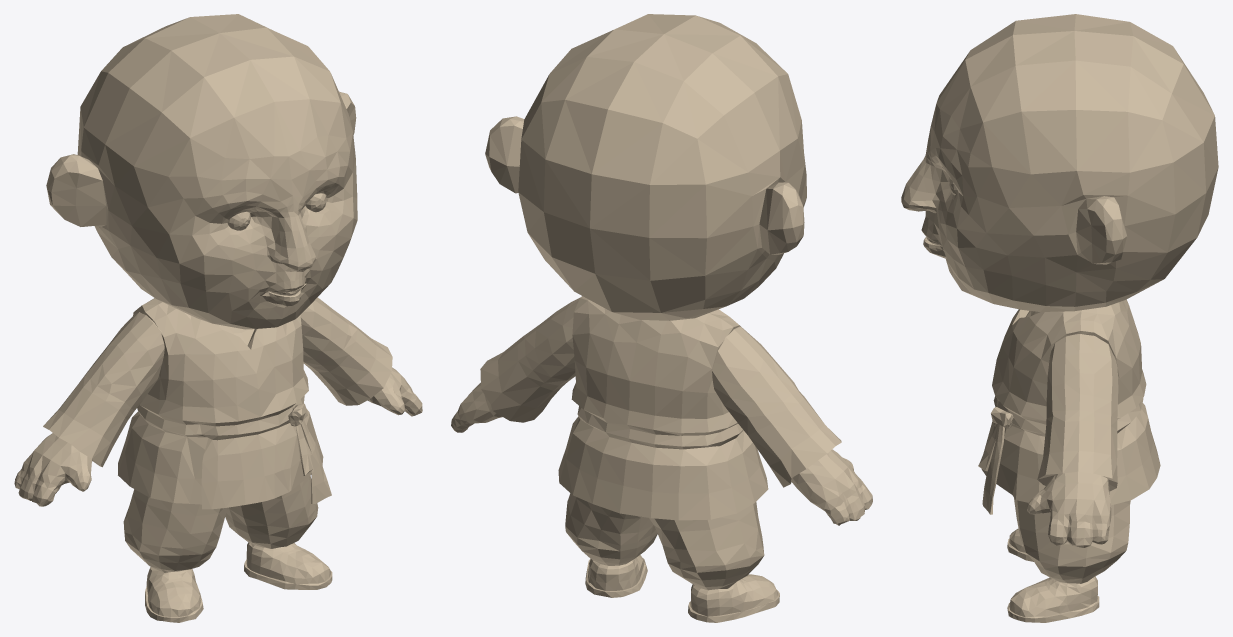
The model's file is character-web.glb.
3 renders of one model, left to right at view 1: azimuth 30°, elevation 25°; view 2: azimuth 150°, elevation 25°; view 3: azimuth 270°, elevation 25°, orthographic. The views are drawn at different scales.
Parts seen in each view (by area): view 1: HistoryMascot_review_pending; view 2: HistoryMascot_review_pending; view 3: HistoryMascot_review_pending.
Part boxes in pixels (<box>): HistoryMascot_review_pending: <box>14,14,422,622</box>; HistoryMascot_review_pending: <box>451,14,872,622</box>; HistoryMascot_review_pending: <box>901,14,1218,622</box>.
Size of the model in its own units: 1.2 by 1.6 by 0.8375.
